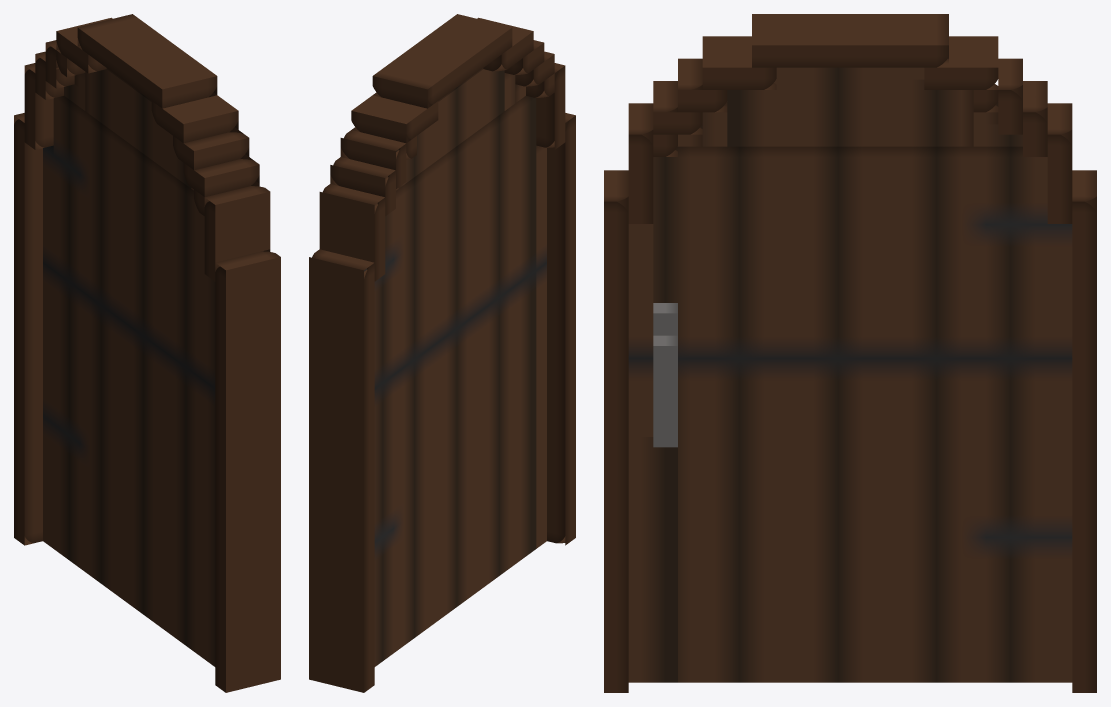
Rendered from Door.dae.
The picture shows the model from 3 angles, left to right: view 1: azimuth 30°, elevation 25°; view 2: azimuth 150°, elevation 25°; view 3: azimuth 270°, elevation 25°; orthographic projection. The views are drawn at different scales.
Visible parts, largest first — view 1: Door; view 2: Door; view 3: Door.
Boxes of the visible parts, bbox=[...] form: Door: bbox=[14, 14, 280, 692]; Door: bbox=[309, 14, 575, 692]; Door: bbox=[604, 14, 1096, 692].
Size of the model in its own units: 4 by 29 by 20.
1 material, 1 textured.
